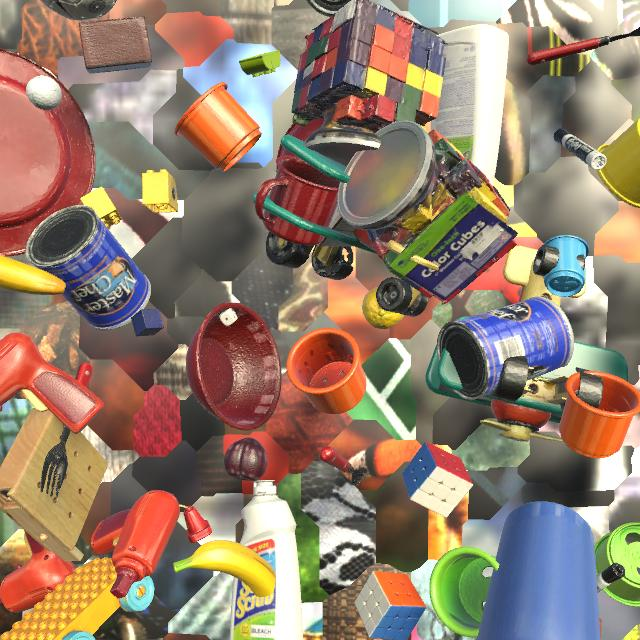ycb_002_master_chef_can: (25, 205, 151, 331), (437, 296, 574, 400)
ycb_007_tuna_fish_can: (307, 0, 351, 17)
ycb_008_pudding_box: (318, 206, 356, 246)
ycb_011_banana: (173, 540, 275, 597), (0, 255, 66, 295)
ycb_014_lemon: (362, 286, 404, 329)
ycb_018_plum: (224, 437, 267, 481)
